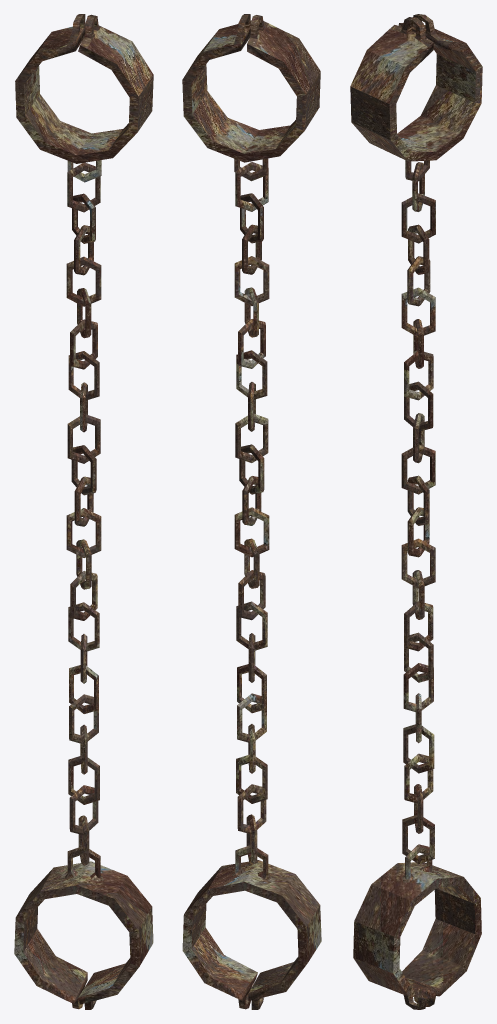
The model's file is manacle.fbx.
3 views of the same model, side by side, from view 1: azimuth 30°, elevation 25°; view 2: azimuth 210°, elevation 25°; view 3: azimuth 270°, elevation 25° (orthographic).
Parts seen in each view (by area): view 1: polySurface1, polySurface3, polySurface24, polySurface17, polySurface23, polySurface7, polySurface12, polySurface22, polySurface18, polySurface6, polySurface21, polySurface25 (+11 smaller); view 2: polySurface1, polySurface3, polySurface24, polySurface17, polySurface23, polySurface12, polySurface7, polySurface22, polySurface18, polySurface6, polySurface10, polySurface25 (+11 smaller); view 3: polySurface1, polySurface3, polySurface25, polySurface13, polySurface11, polySurface19, polySurface5, polySurface8, polySurface10, polySurface18, polySurface22, polySurface7 (+12 smaller).
Boxes of the visible parts, <box> form: polySurface1: <box>15,14,153,163</box>; polySurface3: <box>14,861,153,1009</box>; polySurface24: <box>66,508,101,557</box>; polySurface17: <box>66,256,101,306</box>; polySurface23: <box>67,414,100,463</box>; polySurface7: <box>68,755,99,804</box>; polySurface12: <box>67,162,100,212</box>; polySurface22: <box>68,602,99,651</box>; polySurface18: <box>68,351,99,400</box>; polySurface6: <box>69,785,98,835</box>; polySurface21: <box>70,571,97,620</box>; polySurface25: <box>71,445,96,495</box>; polySurface1: <box>182,14,320,162</box>; polySurface3: <box>182,860,321,1009</box>; polySurface24: <box>234,507,269,557</box>; polySurface17: <box>234,256,269,305</box>; polySurface23: <box>235,414,268,462</box>; polySurface12: <box>235,162,268,211</box>; polySurface7: <box>236,754,267,803</box>; polySurface22: <box>236,601,267,650</box>; polySurface18: <box>236,350,267,399</box>; polySurface6: <box>237,784,266,833</box>; polySurface10: <box>237,664,266,713</box>; polySurface25: <box>239,444,264,494</box>; polySurface1: <box>350,14,482,161</box>; polySurface3: <box>353,862,481,1009</box>; polySurface25: <box>401,444,435,494</box>; polySurface13: <box>401,287,435,336</box>; polySurface11: <box>401,193,435,243</box>; polySurface19: <box>401,538,435,588</box>; polySurface5: <box>402,814,434,863</box>; polySurface8: <box>403,724,434,773</box>; polySurface10: <box>403,663,433,712</box>; polySurface18: <box>404,351,433,400</box>; polySurface22: <box>404,601,433,651</box>; polySurface7: <box>404,753,433,803</box>.
Size of the model in its own units: 4.33 by 35.75 by 4.33.
1 material, 1 textured.
